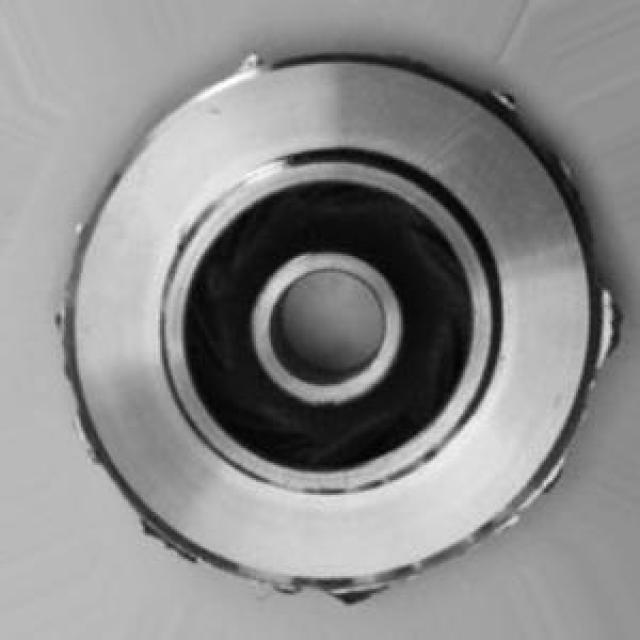Defect: (590, 277, 628, 356)
